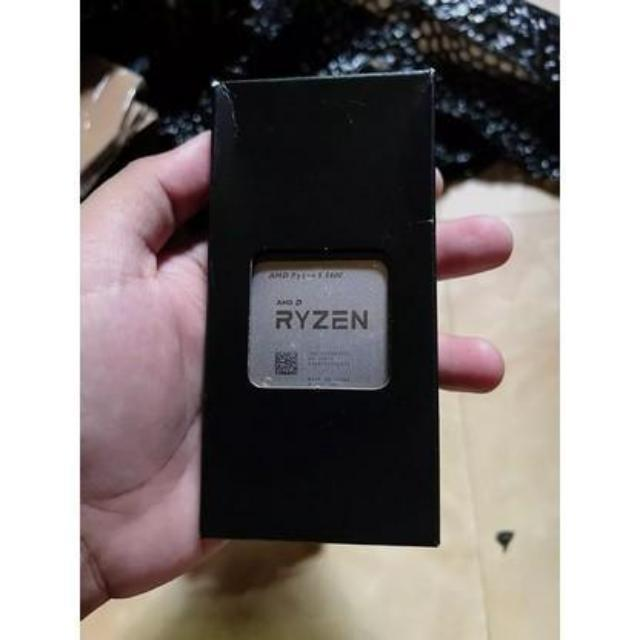CPU: (248, 260, 392, 394)
